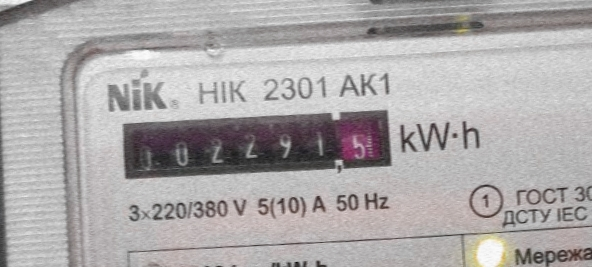0: (134, 140, 155, 170), (172, 137, 190, 167)
1: (311, 125, 327, 160)
2: (207, 134, 225, 164), (242, 129, 258, 159)
5: (349, 129, 367, 160)
9: (276, 129, 294, 160)
screen: (115, 96, 398, 193)
